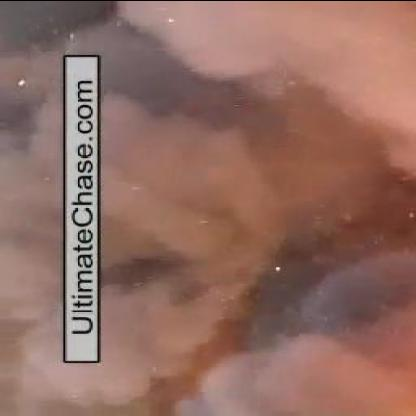-: (109, 30, 383, 404), (3, 53, 62, 380)
